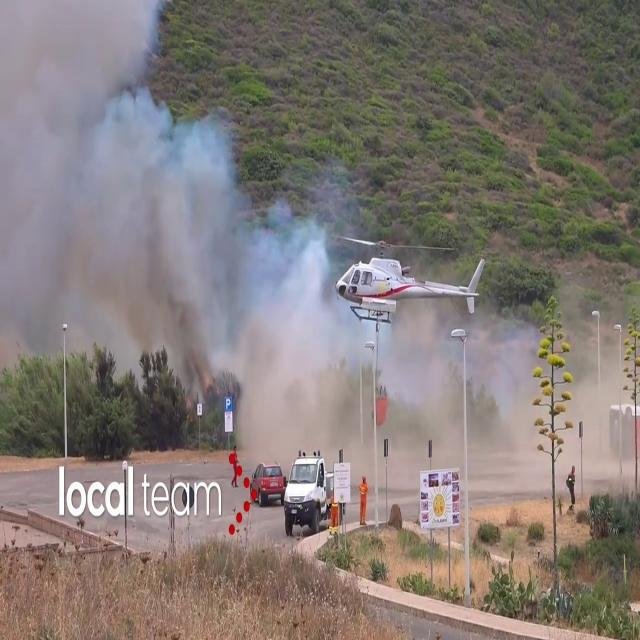Smoke: (0, 0, 353, 436)
